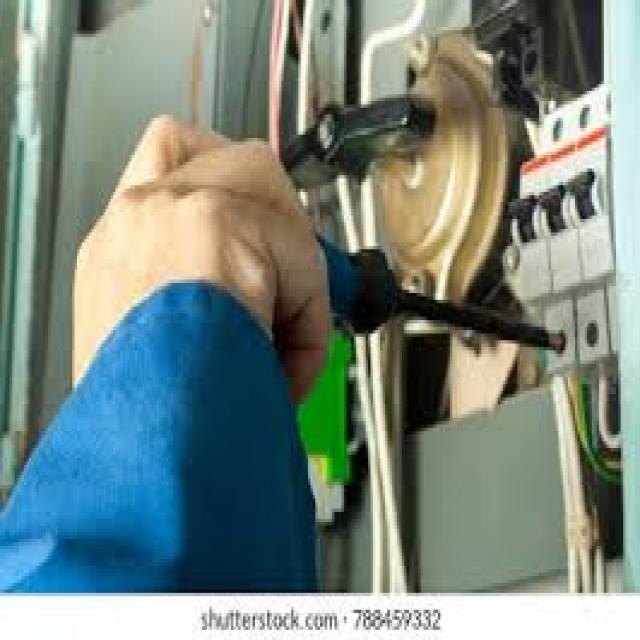screwdriver: (235, 195, 570, 364)
